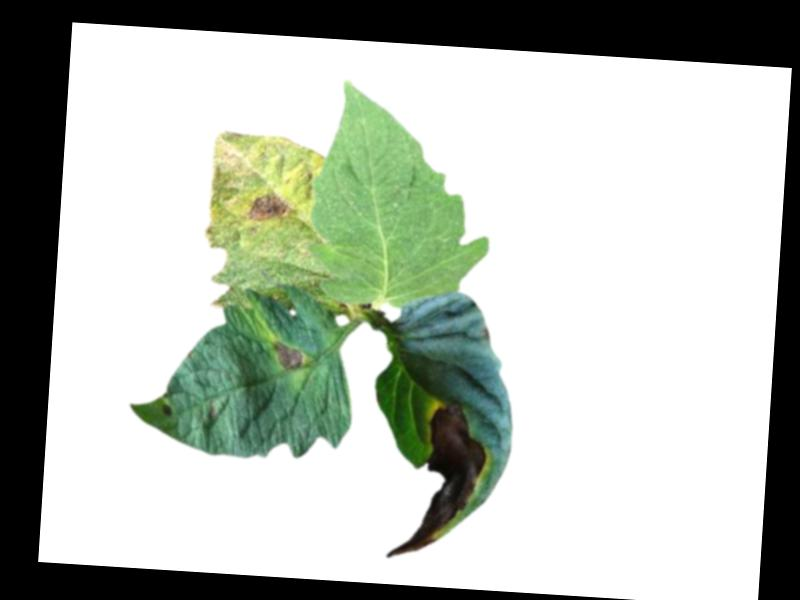Early_blight: (384, 394, 491, 563), (247, 191, 292, 226), (270, 338, 306, 372), (162, 401, 176, 417)
healthy: (303, 75, 502, 316)
